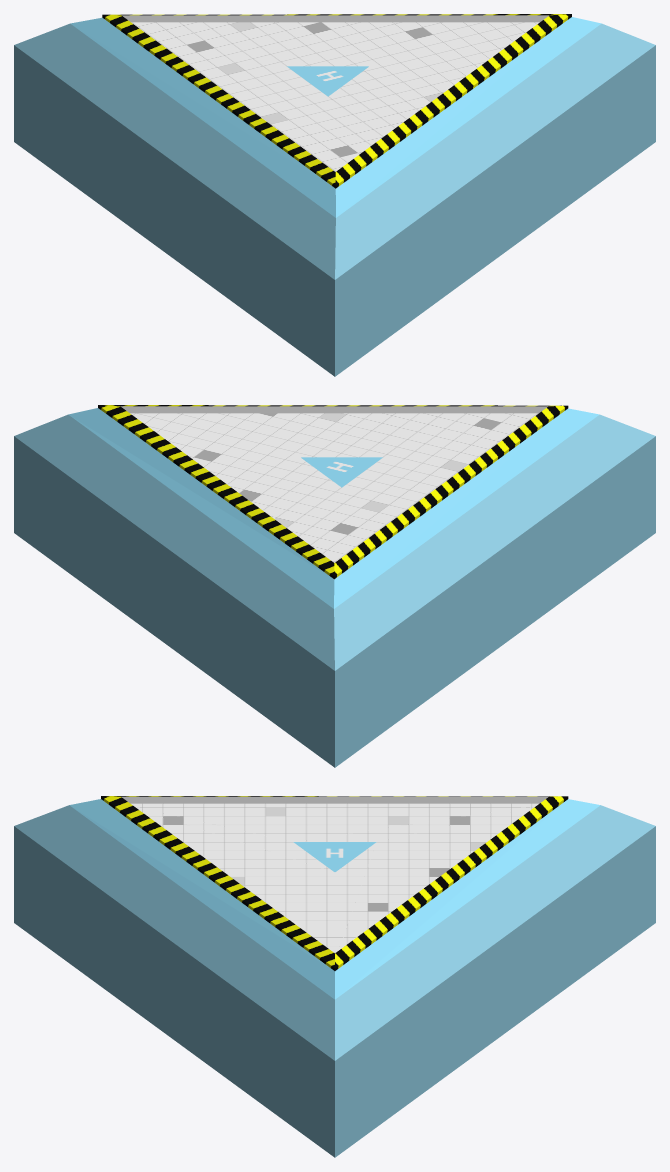
Rendered from building4.fbx.
The picture shows the model from 3 angles, top to bottom: view 1: azimuth 30°, elevation 25°; view 2: azimuth 150°, elevation 25°; view 3: azimuth 270°, elevation 25°; orthographic projection.
Visible parts, largest first — view 1: building, floor; view 2: building, floor; view 3: building, floor.
Boxes of the visible parts, x1,y1,x2,y2 form: building: [14, 14, 655, 376]; floor: [131, 22, 539, 171]; building: [14, 405, 655, 767]; floor: [130, 413, 538, 562]; building: [14, 796, 655, 1157]; floor: [131, 803, 538, 952].
Size of the model in its own units: 45.2 by 13.69 by 52.2.
Materials: 1 (1 with a texture image).
